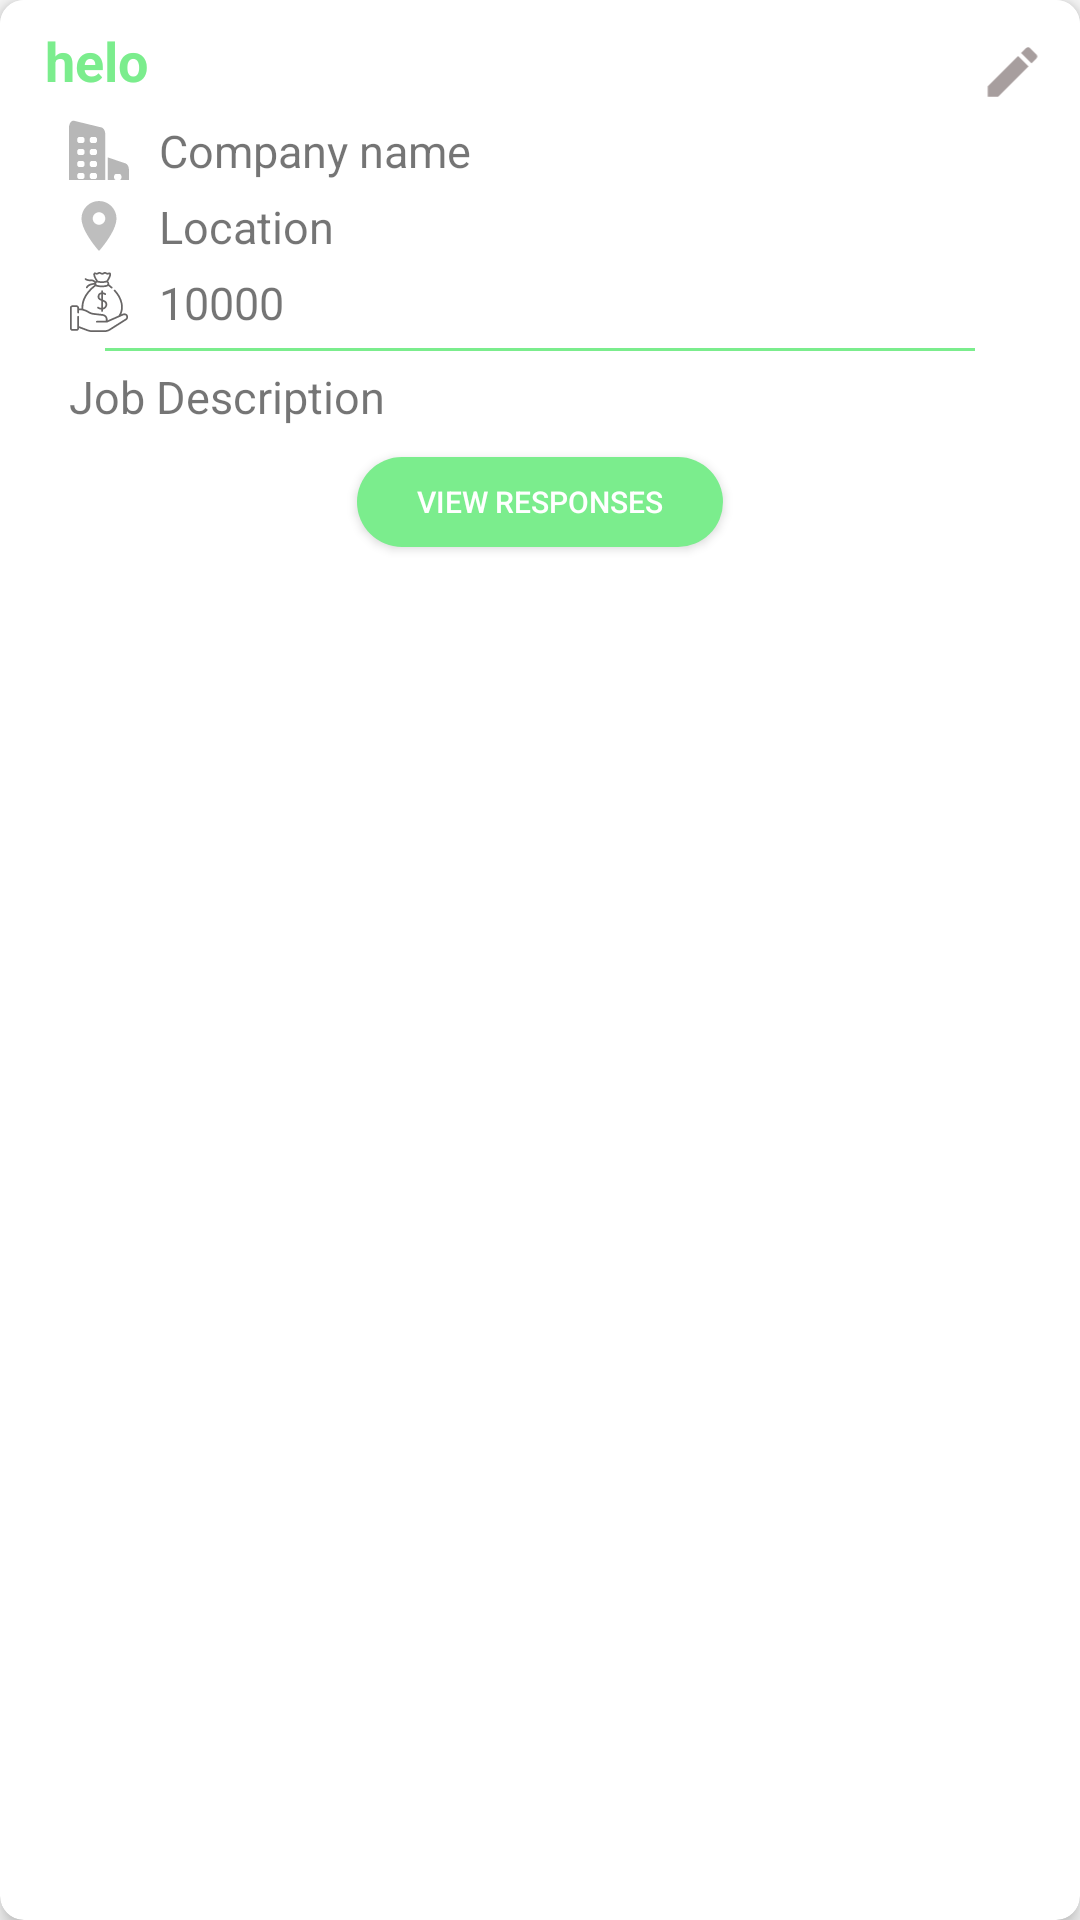

Where to tap for icons on this 1080w x 1920h app screen, as (x=x, y=y):
edit: (x=1012, y=72)
